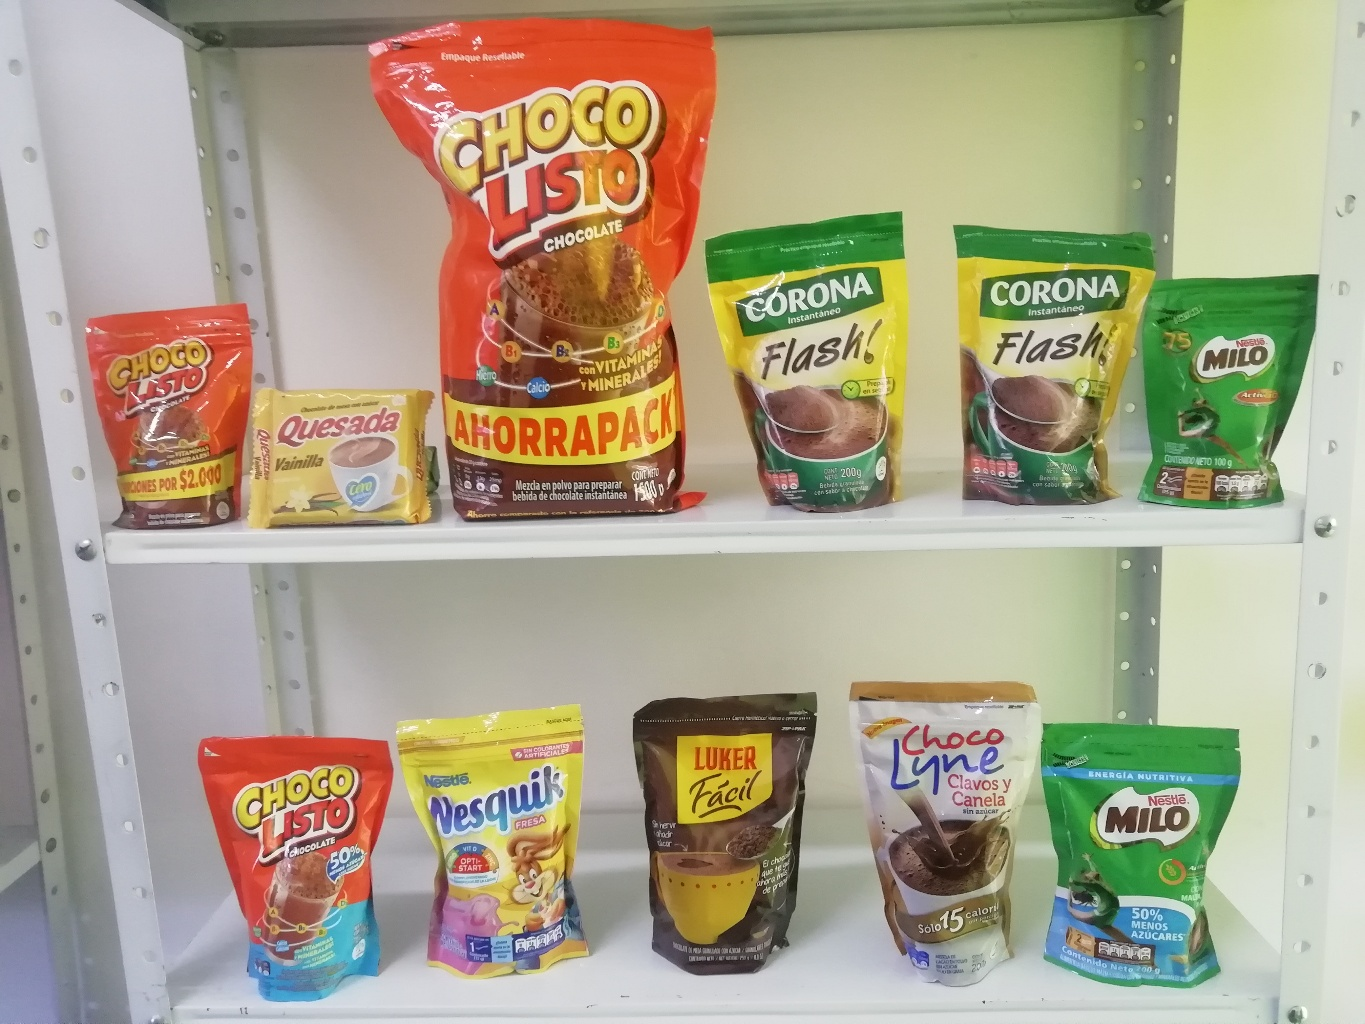COL0170103DYP1,500: (366, 18, 709, 520)
COL0170104DYP20000: (193, 736, 392, 1008)
COL0170203DYP10000: (1147, 270, 1317, 511)
COL0170205DYP20000: (1038, 719, 1245, 987)
COL0170305DYP20000: (392, 711, 601, 980)
